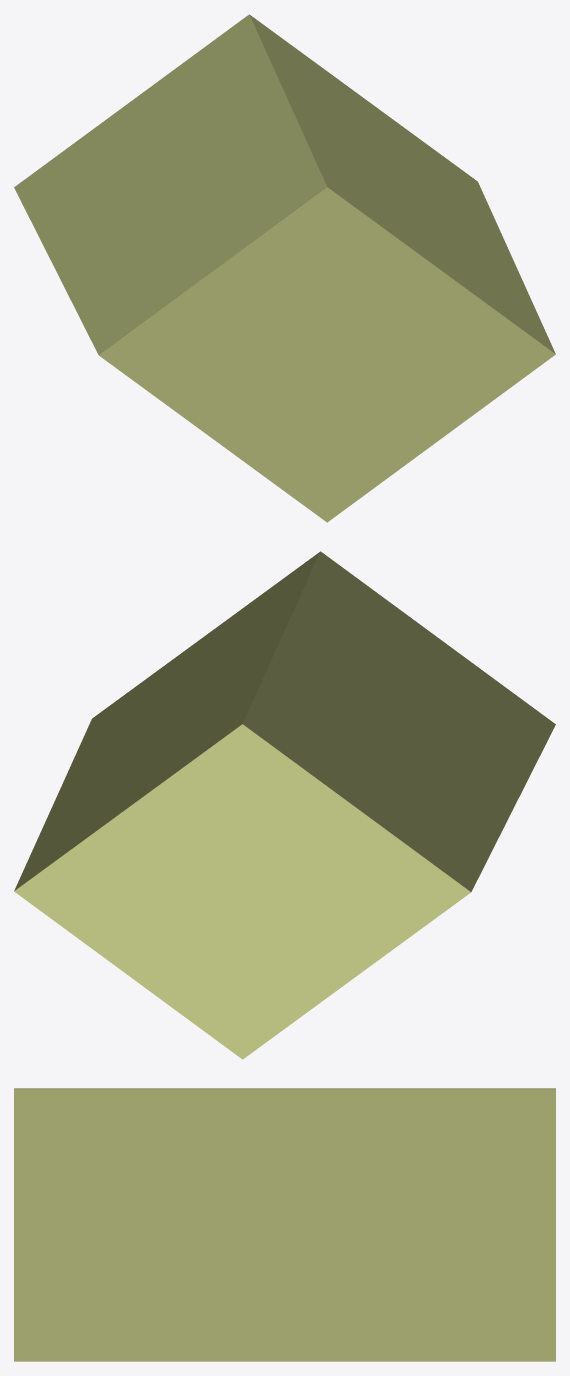
3 renders of one model, top to bottom at view 1: azimuth 30°, elevation 25°; view 2: azimuth 150°, elevation 25°; view 3: azimuth 270°, elevation 25°, orthographic. The views are drawn at different scales.
Parts seen in each view (by area): view 1: 0_1_3_2_1_2_1_1_3_1_2_3; view 2: 0_1_3_2_1_2_1_1_3_1_2_3; view 3: 0_1_3_2_1_2_1_1_3_1_2_3.
Part boxes in pixels (x1=…): 0_1_3_2_1_2_1_1_3_1_2_3: x1=14, y1=14, x2=555, y2=522; 0_1_3_2_1_2_1_1_3_1_2_3: x1=14, y1=551, x2=555, y2=1059; 0_1_3_2_1_2_1_1_3_1_2_3: x1=14, y1=1088, x2=555, y2=1361.
Bounding box in the file's own units: 7.12 × 6.61 × 9.
